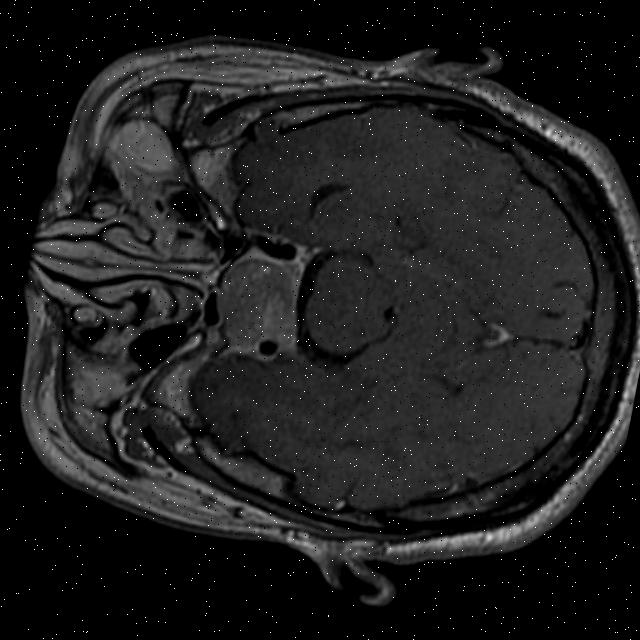Pituitary: (210, 245, 306, 342)
